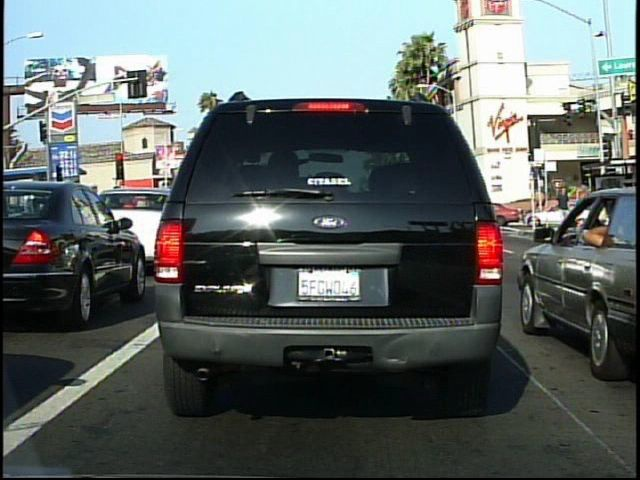person: (588, 183, 616, 239), (553, 181, 573, 223)
